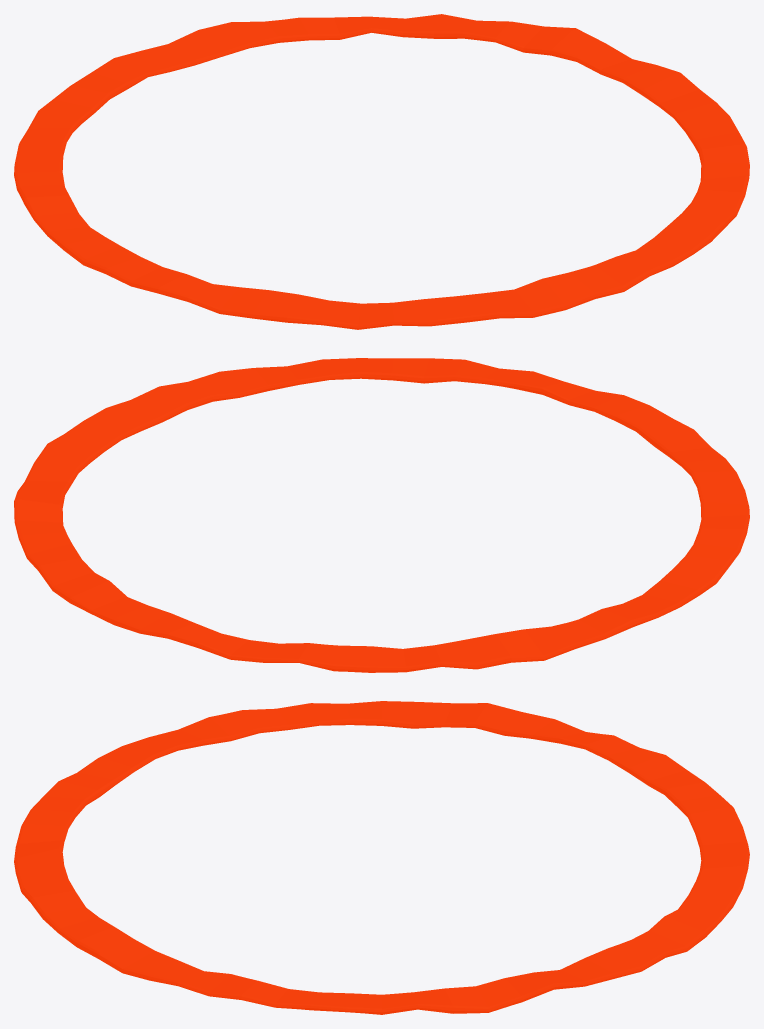
The model's file is Halo.glb.
3 renders of one model, top to bottom at view 1: azimuth 30°, elevation 25°; view 2: azimuth 150°, elevation 25°; view 3: azimuth 270°, elevation 25°, orthographic.
Visible parts, largest first — view 1: Círculo; view 2: Círculo; view 3: Círculo.
Part boxes in pixels (x1,y1,x2,y2): Círculo: (14, 14, 749, 329); Círculo: (14, 358, 749, 672); Círculo: (14, 701, 749, 1014).
Size of the model in its own units: 11.53 by 0.3164 by 11.53.
